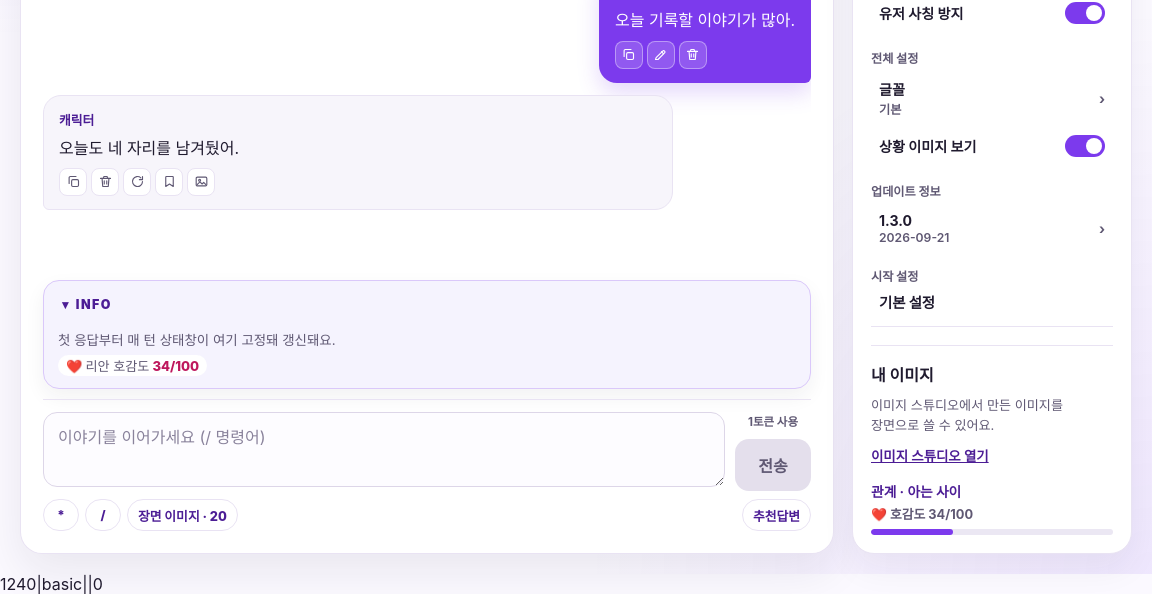
Scenario: 채팅방 설정과 고정 상태창 › 장면 이미지 생성 버튼은 입력창 아래 입력 보조에 있고, 만든 그림은 마지막 응답 아래에 붙는다
(page scrolled)
Click the button with aria-label "장면 이미지 생성 · 20토큰" at (182, 515), box [127,499,238,531]
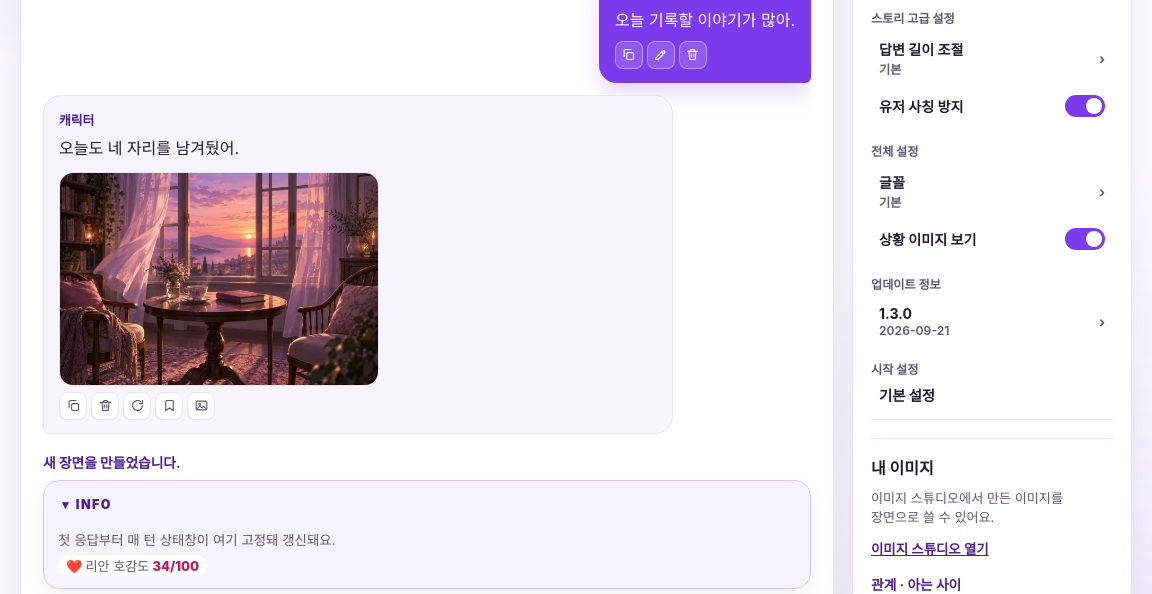
Now the text "새 장면을 만들었습니다." is shown, box [43,455,181,471]
